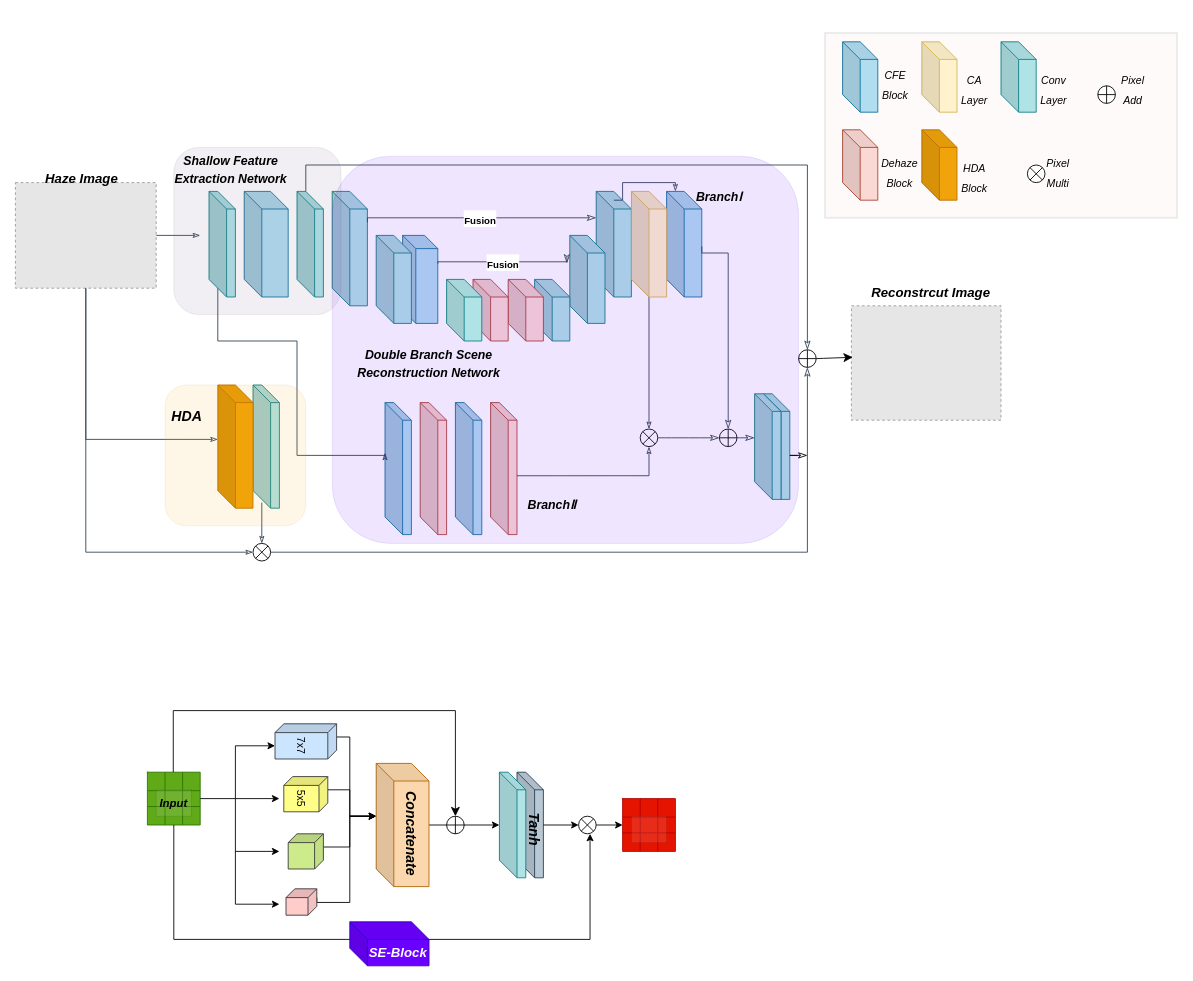
The diagram is 1193 pixels wide and 981 high, and some of its shapes have lost their labels. Grey dashed boxes stand in for pictures. Here are the shapes that lost their labels. From the top down, the centre of each, then its label:
At [512,824]: "conv".
At [649,829]: "Output".
At [305,851]: "3x3".
At [301,901]: "1x1".
